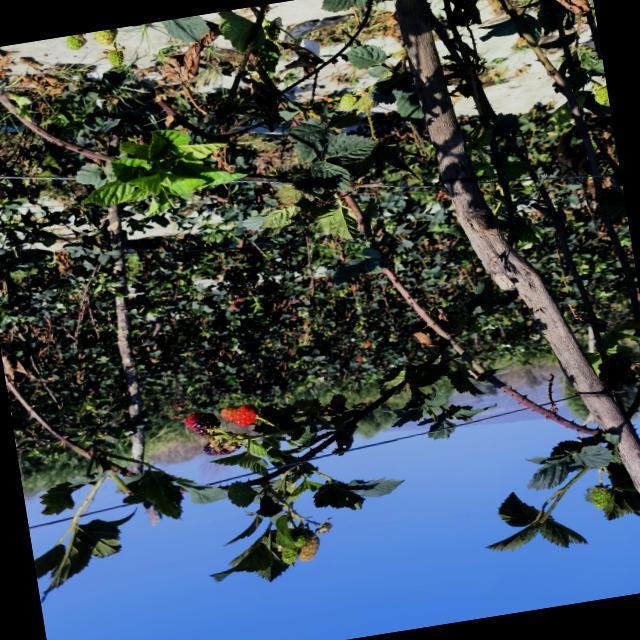maduro: (203, 443, 232, 456)
marron: (185, 413, 219, 436)
naranja: (221, 405, 257, 426)
verde: (299, 537, 319, 562), (592, 487, 611, 509), (282, 547, 299, 564), (292, 532, 308, 547)
